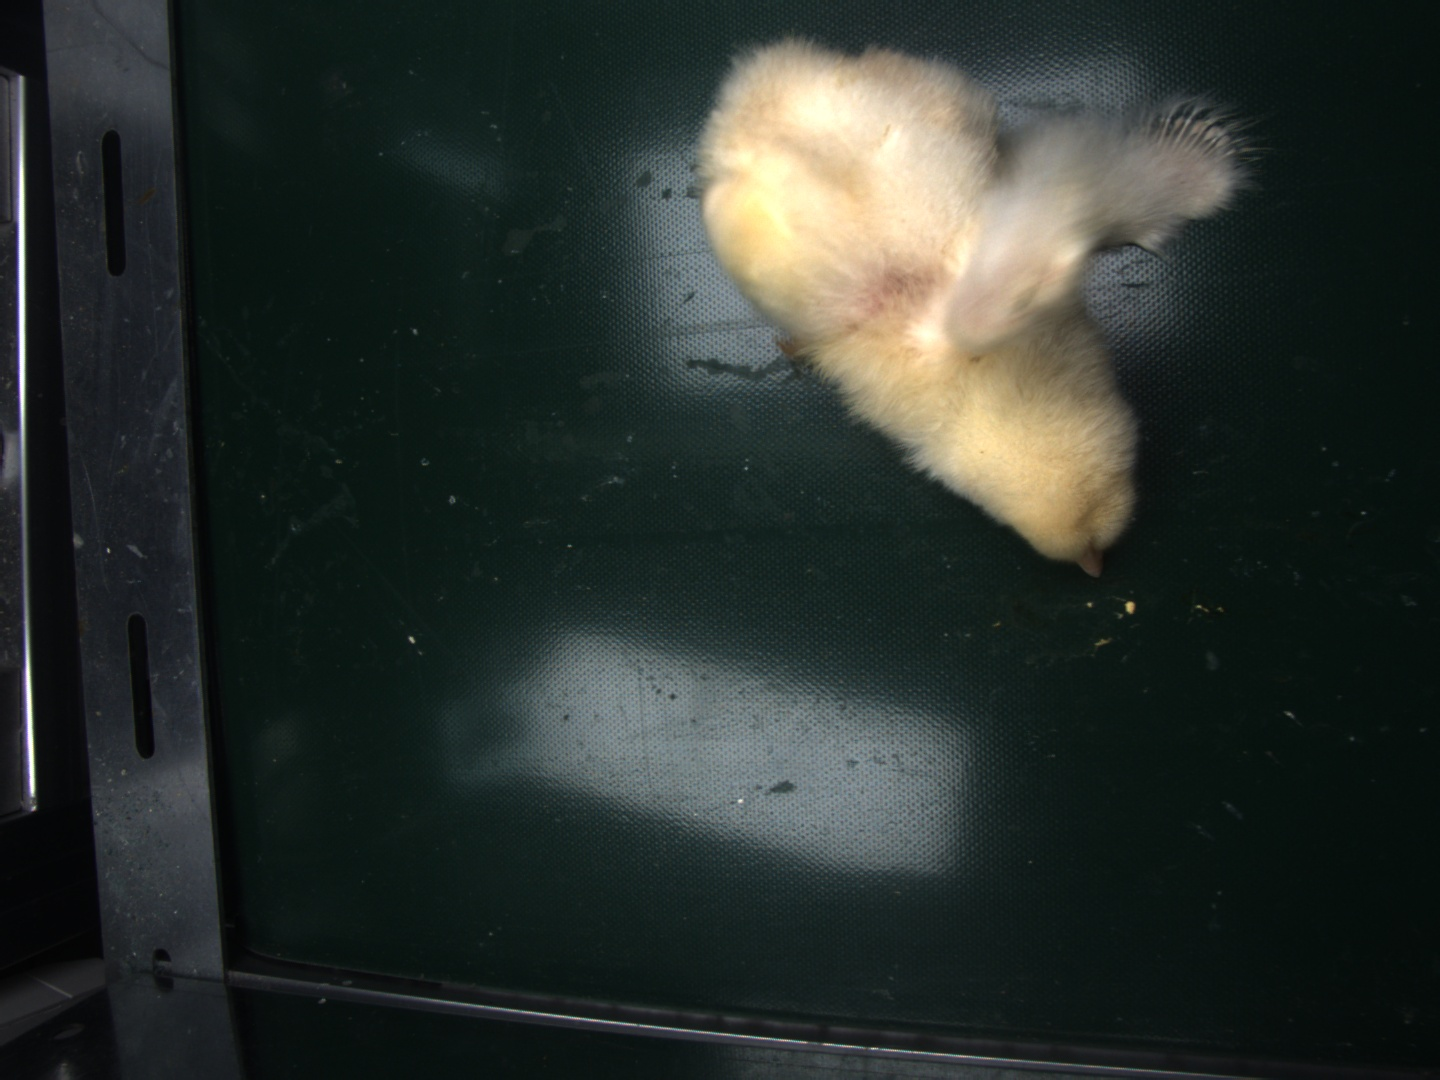male: (1151, 111, 1235, 172)
